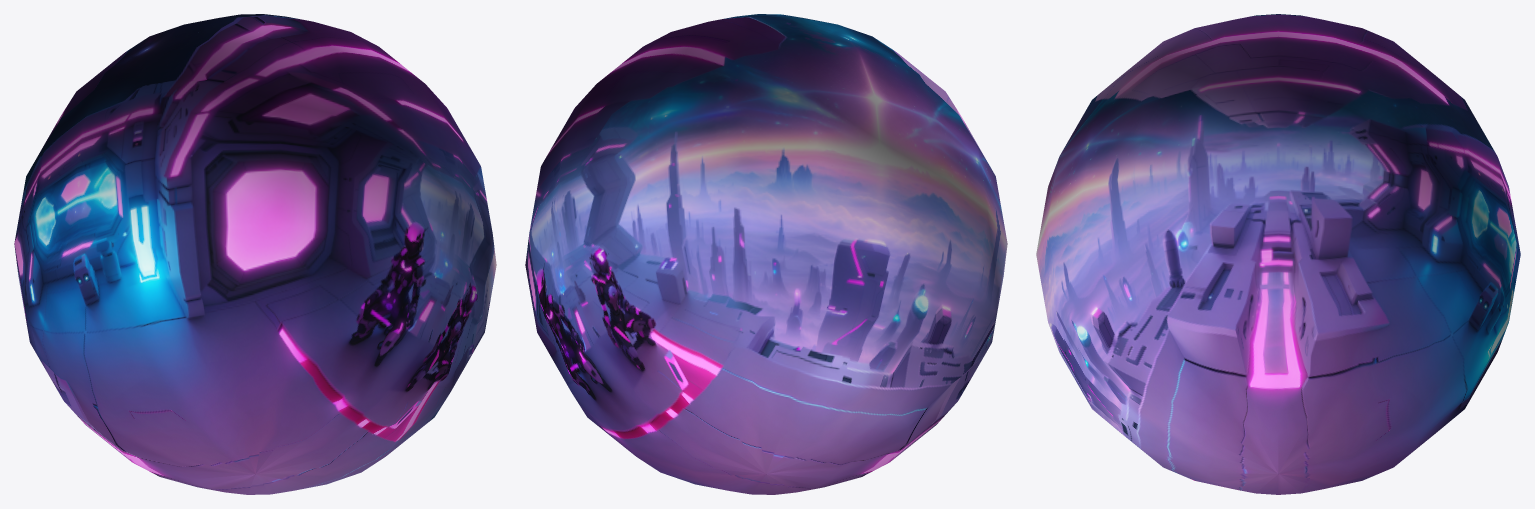
3 renders of one model, left to right at view 1: azimuth 30°, elevation 25°; view 2: azimuth 150°, elevation 25°; view 3: azimuth 270°, elevation 25°, orthographic.
Visible parts, largest first — view 1: Skybox_0; view 2: Skybox_0; view 3: Skybox_0.
Part boxes in pixels (<box>): Skybox_0: <box>14,14,496,494</box>; Skybox_0: <box>525,14,1007,494</box>; Skybox_0: <box>1036,14,1520,494</box>.
Bounding box in the file's own units: 500 × 500 × 500.
1 material, 1 textured.
